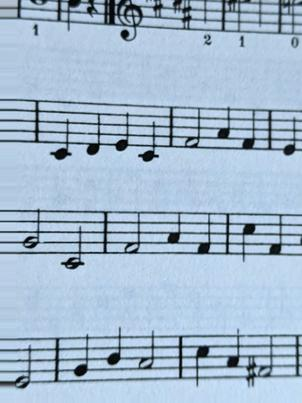A: (221, 325, 243, 383), (163, 208, 185, 258), (213, 102, 233, 155)
B: (104, 323, 126, 386)
D: (84, 97, 103, 161)
E: (112, 99, 133, 155), (279, 105, 299, 159)
F: (193, 205, 215, 263), (263, 208, 286, 262), (239, 105, 259, 157)
G: (72, 328, 92, 389)
HC: (192, 328, 214, 390), (237, 207, 258, 267)
LC: (135, 99, 164, 166), (46, 95, 74, 163)
